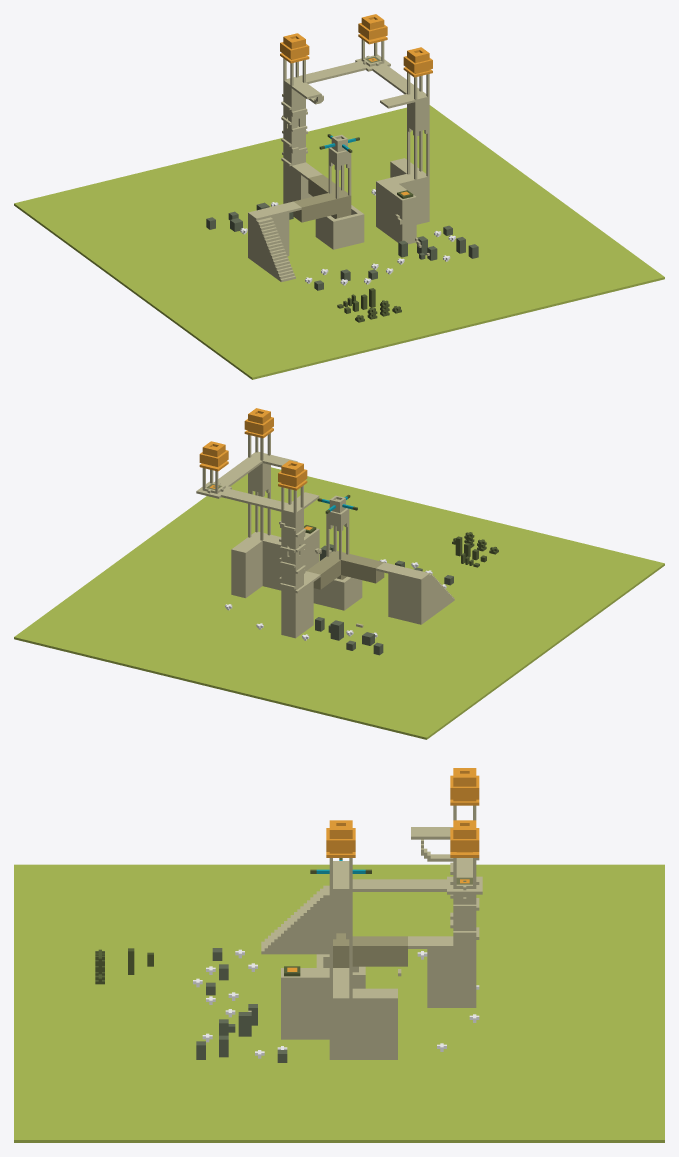
File: temporal map.obj
3 renders of one model, top to bottom at view 1: azimuth 30°, elevation 25°; view 2: azimuth 150°, elevation 25°; view 3: azimuth 270°, elevation 25°, orthographic. The views are drawn at different scales.
Size of the model in its own units: 20 by 7.9 by 20.
Materials: 1 (1 with a texture image).
